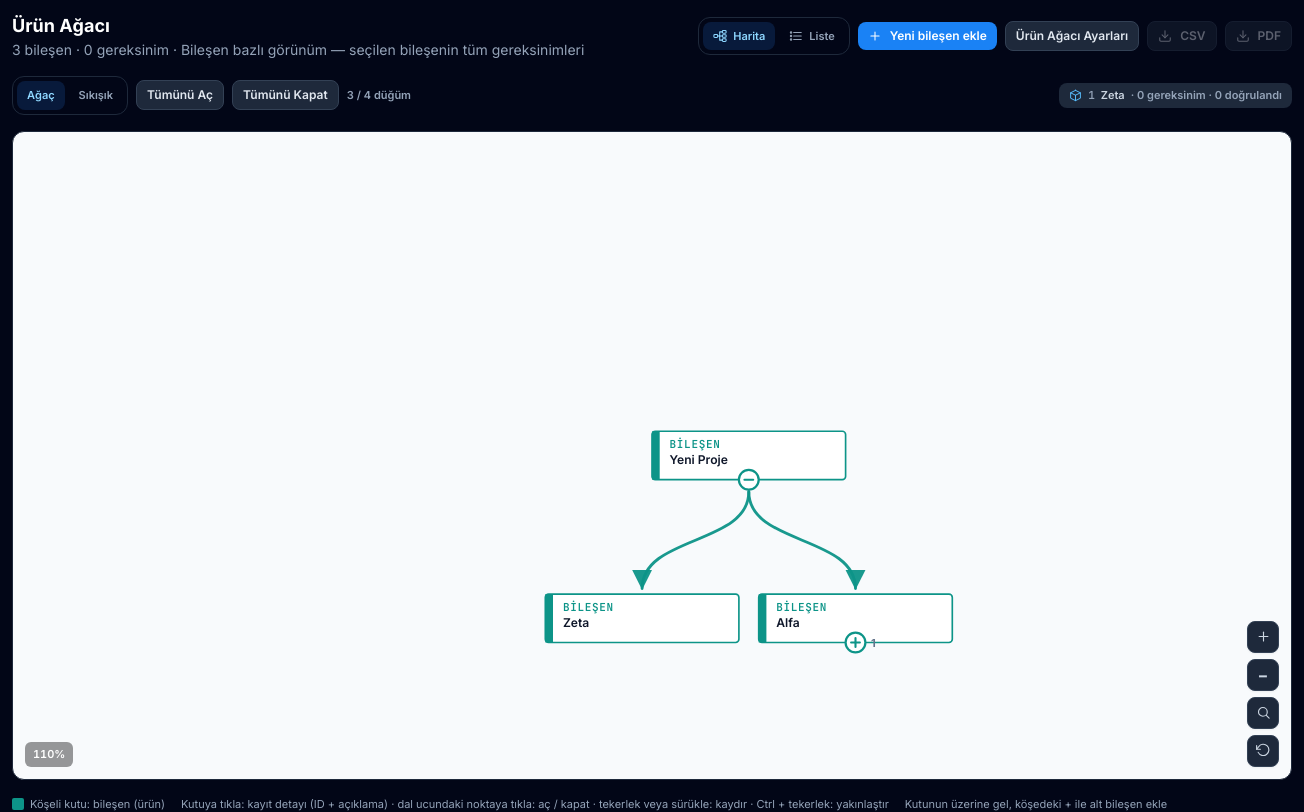
Test case: Liste: kırılım, sıra ve boş bileşenler › gereksinimi olmayan bileşenler listede görünür (gizlenmez)
This screenshot has width=1304, height=812.
Click the button with test id "comp-view-list" at x=812, y=36, box [779, 22, 845, 50]
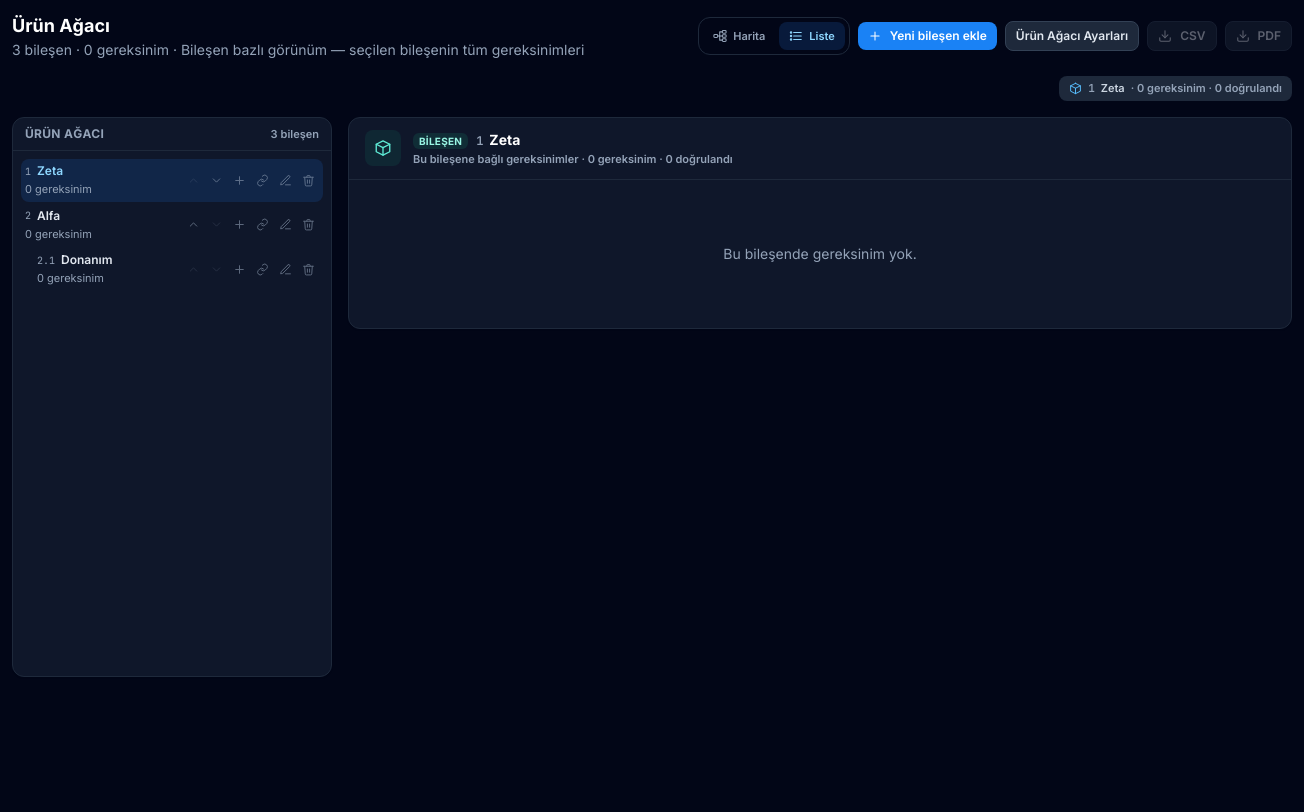
Now the button with test id "comp-item-c1" shows "Zeta", box [25, 163, 179, 198]
Now the button with test id "comp-item-c1" shows "0 gereksinim", box [25, 163, 179, 198]
